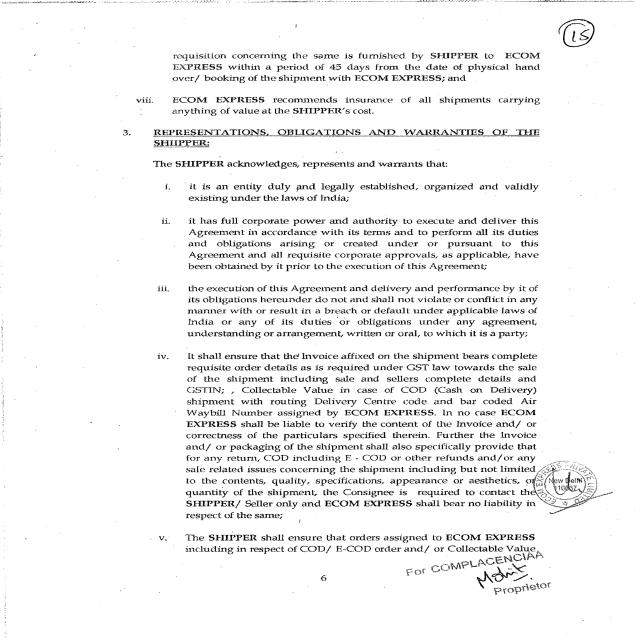page-number: (544, 5, 640, 122)
